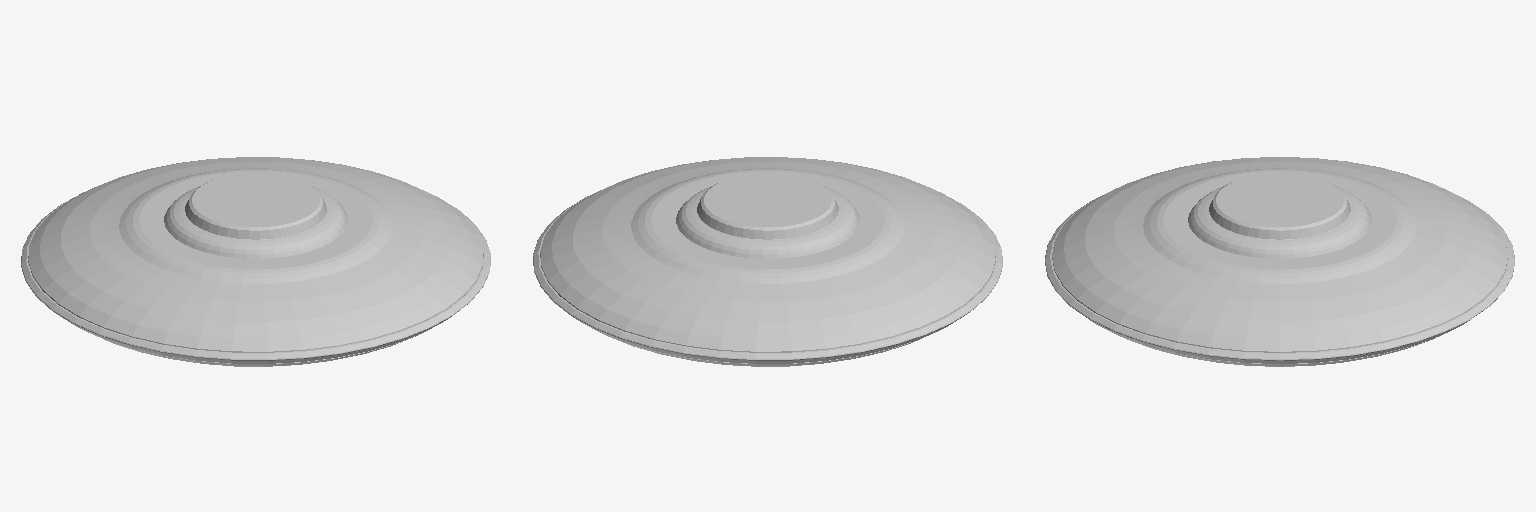
File: ufo.obj
3 views of the same model, side by side, from view 1: azimuth 30°, elevation 25°; view 2: azimuth 150°, elevation 25°; view 3: azimuth 270°, elevation 25° (orthographic).
Parts seen in each view (by area): view 1: UFO; view 2: UFO; view 3: UFO.
Part boxes in pixels (left/top/right/bottom): UFO: left=21, top=157, right=490, bottom=366; UFO: left=533, top=157, right=1002, bottom=366; UFO: left=1045, top=157, right=1514, bottom=366.
Size of the model in its own units: 41.22 by 10.77 by 41.22.